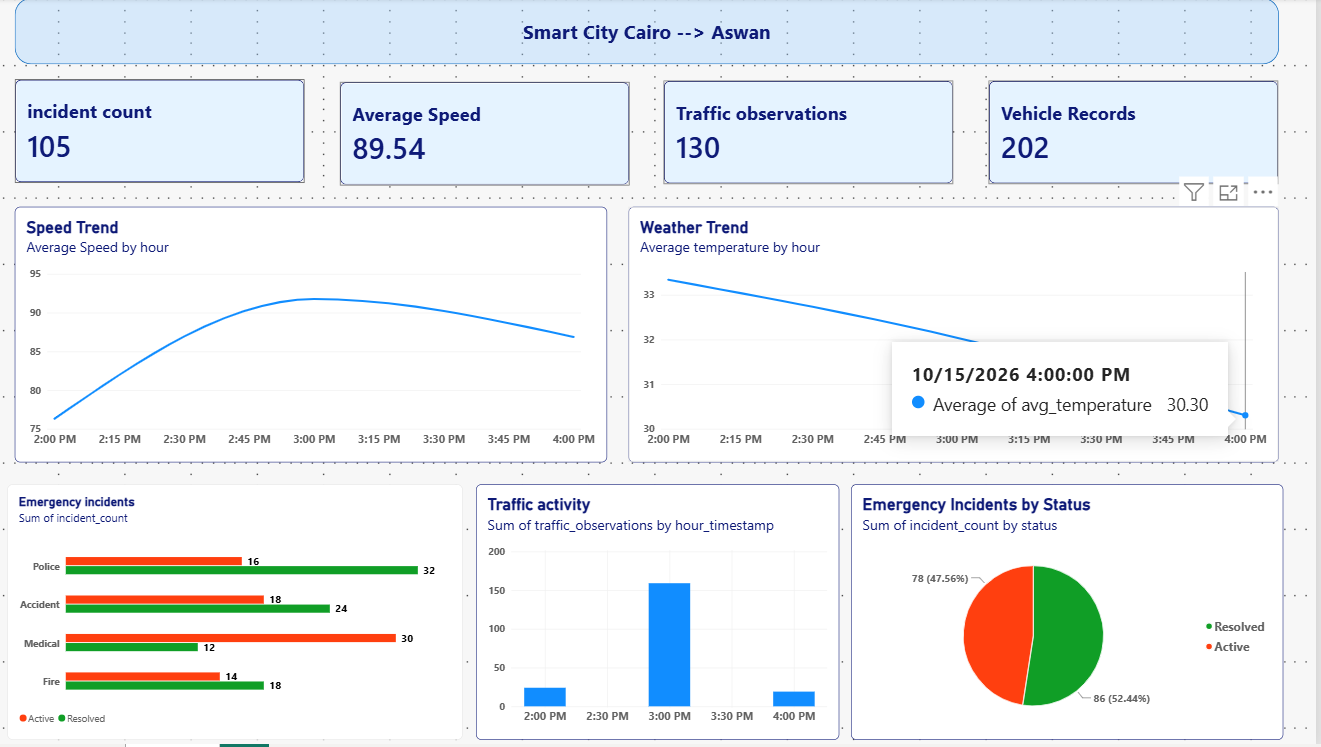

Layout of this report page (visuals, bound fields, positions):
{"tool":"powerbi","page":{"name":"Page 1","canvas":[1920,1080],"ordinal":0},"visuals":[{"type":"cardVisual","fields":{"Data":["Sum(curated_vehicle_summary.total_records)"]},"box":[1446,120,420,150],"z":0},{"type":"cardVisual","fields":{"Data":["Avg(curated_vehicle_summary.avg_speed)"]},"box":[504.7,120.7,420,150],"z":1000},{"type":"cardVisual","fields":{"Data":["CountNonNull(curated_traffic_summary.traffic_observations)"]},"box":[975.3,119.3,420,150],"z":2000},{"type":"cardVisual","fields":{"Data":["CountNonNull(curated_emergency_summary.incident_count)"]},"box":[34,118,420,150],"z":3000},{"type":"shape","box":[34,0,1832,96],"z":4000},{"type":"lineChart","title":"Speed Trend","fields":{"Category":["curated_gps_summary.hour_timestamp"],"Y":["Sum(curated_gps_summary.avg_speed)"]},"box":[34,302,858,370],"z":5000},{"type":"clusteredBarChart","title":"Emergency incidents","fields":{"Category":["curated_emergency_summary.incident_type"],"Series":["curated_emergency_summary.status"],"Y":["Sum(curated_emergency_summary.incident_count)"]},"box":[22.8,705.2,660,370],"z":6000},{"type":"clusteredColumnChart","title":"Traffic activity","fields":{"Category":["curated_traffic_summary.hour_timestamp"],"Y":["Sum(curated_traffic_summary.traffic_observations)"]},"box":[702.8,705.2,526,370],"z":7000},{"type":"lineChart","title":"Weather Trend","fields":{"Category":["curated_weather_summary.hour_timestamp"],"Y":["Avg(curated_weather_summary.avg_temperature)"]},"box":[924,302,942,370],"z":8000},{"type":"pieChart","title":"Emergency Incidents by Status","fields":{"Category":["curated_emergency_summary.status"],"Y":["Sum(curated_emergency_summary.incident_count)"]},"box":[1246.8,705.2,626,370],"z":8001}]}

Visuals, with their boxes in screenshot pixels (x1, y1, x2, y2), scaled from the page's 1920x1080 canvas onto the 1321x747 screenshot:
cardVisual - Sum(curated_vehicle_summary.total_records): <bbox>995, 83, 1284, 187</bbox>
cardVisual - Avg(curated_vehicle_summary.avg_speed): <bbox>347, 83, 636, 187</bbox>
cardVisual - CountNonNull(curated_traffic_summary.traffic_observations): <bbox>671, 83, 960, 186</bbox>
cardVisual - CountNonNull(curated_emergency_summary.incident_count): <bbox>23, 82, 312, 185</bbox>
shape: <bbox>23, 0, 1284, 66</bbox>
"Speed Trend" lineChart: <bbox>23, 209, 614, 465</bbox>
"Emergency incidents" clusteredBarChart: <bbox>16, 488, 470, 744</bbox>
"Traffic activity" clusteredColumnChart: <bbox>484, 488, 845, 744</bbox>
"Weather Trend" lineChart: <bbox>636, 209, 1284, 465</bbox>
"Emergency Incidents by Status" pieChart: <bbox>858, 488, 1289, 744</bbox>
